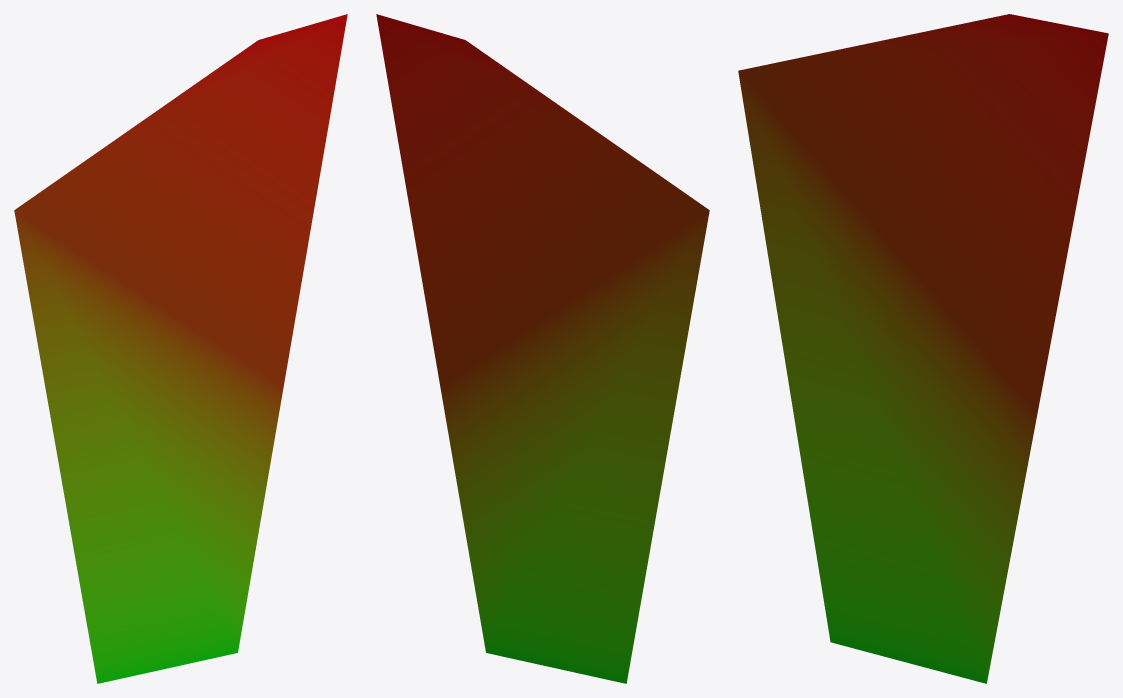
Rendered from Cotton Grass_LOD4_Var15_wlykecdia.fbx.
3 renders of one model, left to right at view 1: azimuth 30°, elevation 25°; view 2: azimuth 150°, elevation 25°; view 3: azimuth 330°, elevation 25°, orthographic. The views are drawn at different scales.
Visible parts, largest first — view 1: _xba1_Var15_LOD4; view 2: _xba1_Var15_LOD4; view 3: _xba1_Var15_LOD4.
Part boxes in pixels (bbox=[...]): _xba1_Var15_LOD4: bbox=[14, 14, 347, 683]; _xba1_Var15_LOD4: bbox=[376, 14, 709, 683]; _xba1_Var15_LOD4: bbox=[738, 14, 1108, 683].
Bounding box in the file's own units: 9.48 × 16.62 × 1.15e-07.
